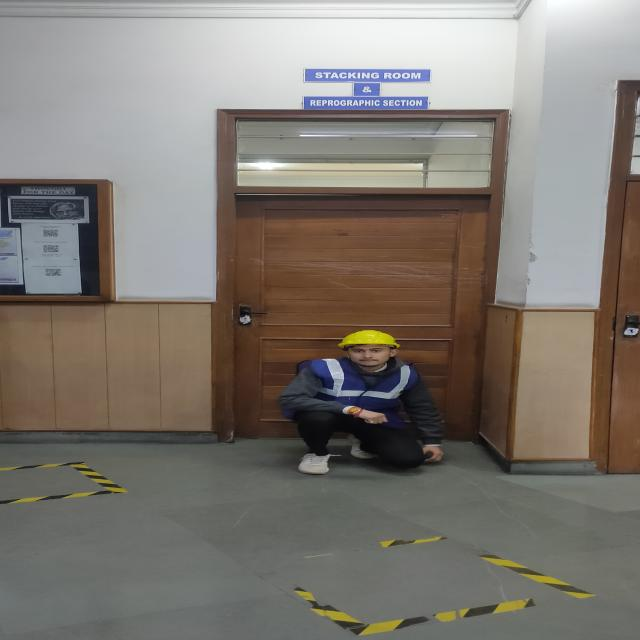safe: (280, 330, 442, 473)
